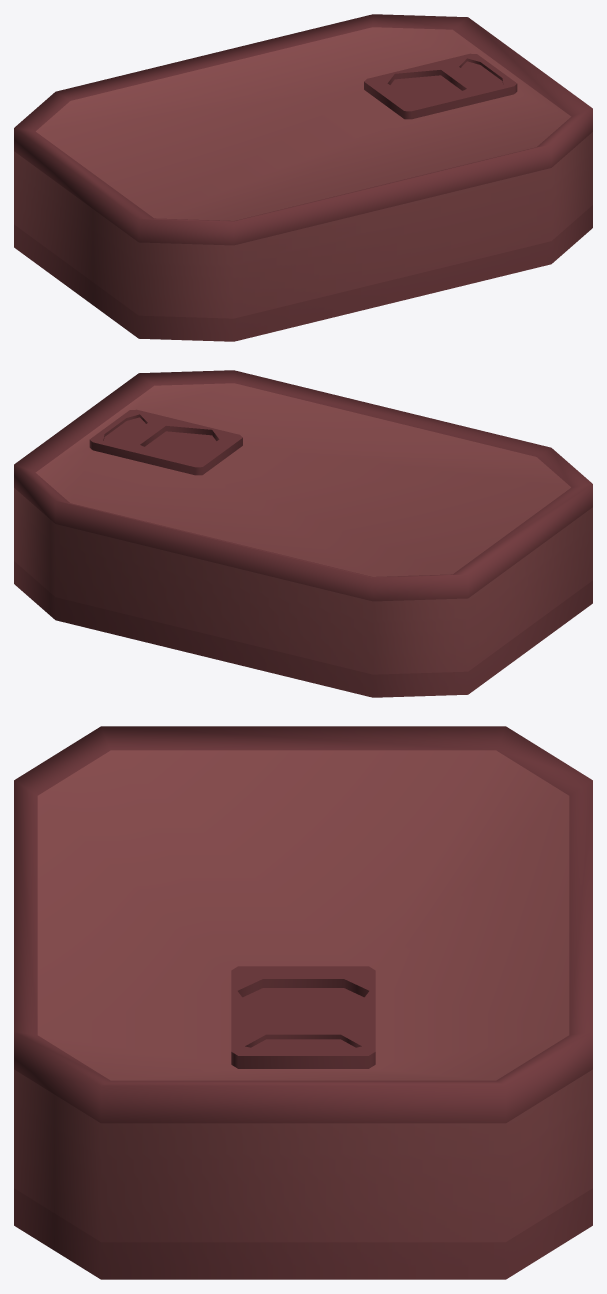
Rendered from can_food_square_red.fbx.
3 renders of one model, top to bottom at view 1: azimuth 30°, elevation 25°; view 2: azimuth 150°, elevation 25°; view 3: azimuth 270°, elevation 25°, orthographic. The views are drawn at different scales.
Parts seen in each view (by area): view 1: can_food_square_red; view 2: can_food_square_red; view 3: can_food_square_red.
Part boxes in pixels (x1,y1,x2,y2): can_food_square_red: (14, 14, 592, 341); can_food_square_red: (14, 370, 592, 697); can_food_square_red: (14, 726, 592, 1279).
Bounding box in the file's own units: 80.81 × 20.69 × 54.99.
